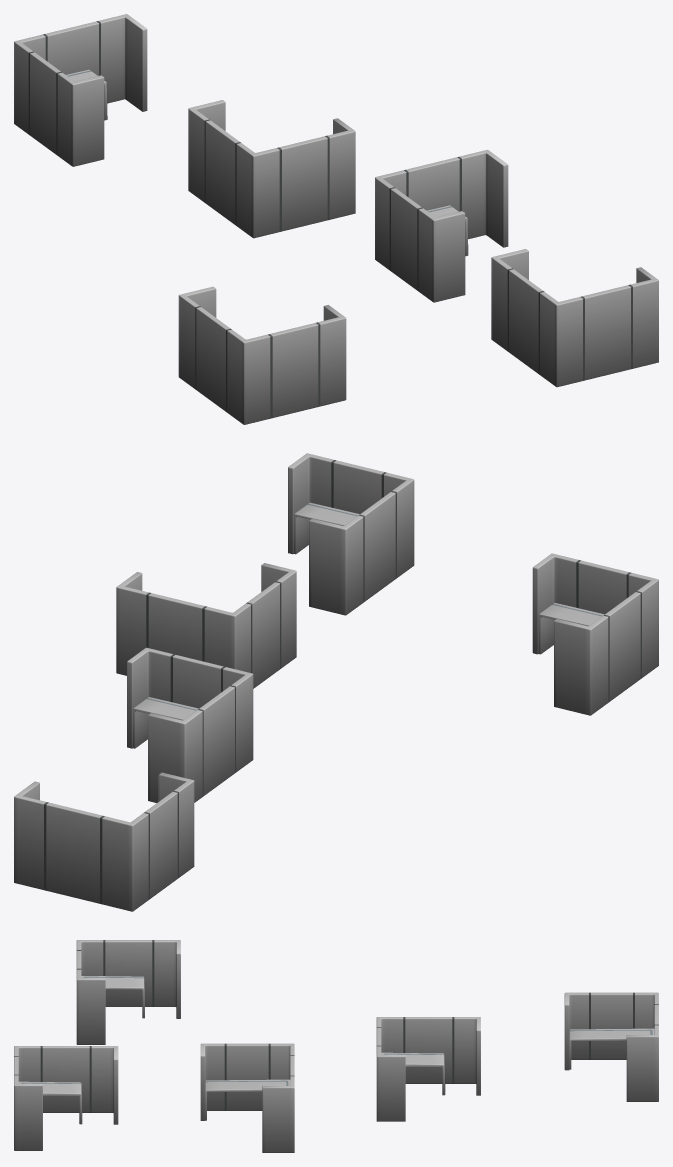
File: worker_walls.fbx
3 views of the same model, one above another, from view 1: azimuth 30°, elevation 25°; view 2: azimuth 150°, elevation 25°; view 3: azimuth 270°, elevation 25° (orthographic). The views are drawn at different scales.
Parts seen in each view (by area): view 1: worker_wall_004, worker_wall, worker_wall_003, worker_wall_001, worker_wall_006; view 2: worker_wall_006, worker_wall_003, worker_wall_004, worker_wall, worker_wall_001; view 3: worker_wall, worker_wall_004, worker_wall_003, worker_wall_006, worker_wall_001.
Boxes of the visible parts, x1=… form: worker_wall_004: x1=178, y1=286, x2=346, y2=424; worker_wall: x1=188, y1=100, x2=355, y2=238; worker_wall_003: x1=491, y1=249, x2=658, y2=387; worker_wall_001: x1=375, y1=149, x2=508, y2=302; worker_wall_006: x1=14, y1=14, x2=147, y2=166; worker_wall_006: x1=14, y1=772, x2=194, y2=911; worker_wall_003: x1=288, y1=453, x2=414, y2=615; worker_wall_004: x1=532, y1=553, x2=658, y2=715; worker_wall: x1=127, y1=647, x2=253, y2=802; worker_wall_001: x1=116, y1=563, x2=296, y2=688; worker_wall: x1=376, y1=1017, x2=480, y2=1121; worker_wall_004: x1=76, y1=940, x2=180, y2=1044; worker_wall_003: x1=14, y1=1046, x2=118, y2=1150; worker_wall_006: x1=564, y1=992, x2=658, y2=1101; worker_wall_001: x1=200, y1=1043, x2=294, y2=1152.
Size of the model in its own units: 757 by 156 by 1396.
